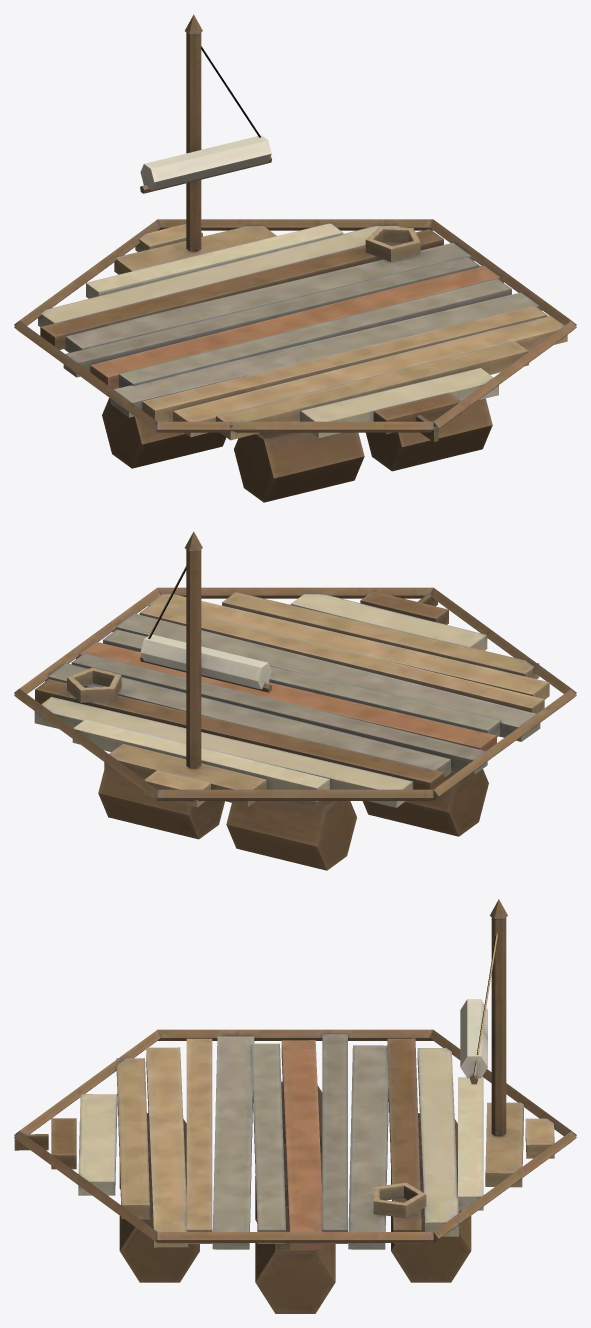
The model's file is raft-a-age1-lite.glb.
3 renders of one model, top to bottom at view 1: azimuth 30°, elevation 25°; view 2: azimuth 150°, elevation 25°; view 3: azimuth 270°, elevation 25°, orthographic.
Visible parts, largest first — view 1: raft-a-age1-lite; view 2: raft-a-age1-lite; view 3: raft-a-age1-lite.
Boxes of the visible parts, x1,y1,x2,y2 form: raft-a-age1-lite: (14, 14, 576, 502); raft-a-age1-lite: (14, 531, 576, 870); raft-a-age1-lite: (14, 899, 576, 1313).
Size of the model in its own units: 1.59 by 1.18 by 1.83.
1 material, 1 textured.
